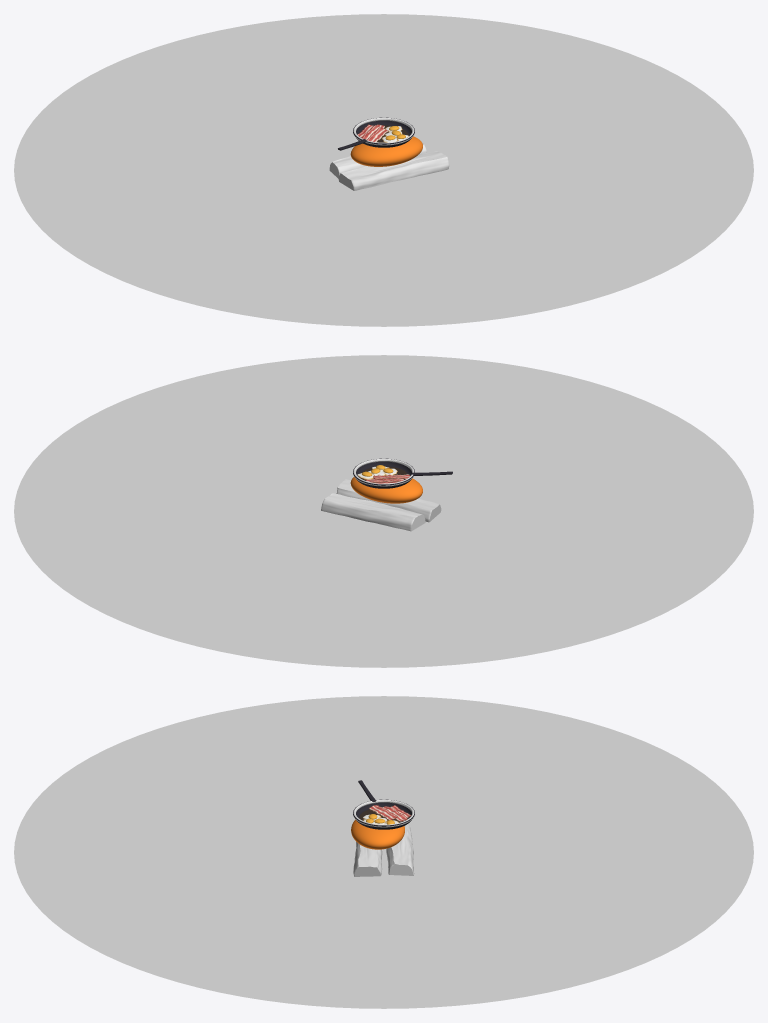
File: hearth.glb
3 views of the same model, one above another, from view 1: azimuth 30°, elevation 25°; view 2: azimuth 150°, elevation 25°; view 3: azimuth 270°, elevation 25° (orthographic).
Visible parts, largest first — view 1: HearthStone, HearthLogFront, SpiritBody, Pan; view 2: HearthStone, HearthLogBack, SpiritBody, HearthLogFront, Pan; view 3: HearthStone, SpiritBody, HearthLogBack, HearthLogFront, Pan.
Part boxes in pixels (box(x1,y1,x2,y2)): HearthStone: box(14, 14, 753, 326); HearthLogFront: box(338, 151, 449, 190); SpiritBody: box(350, 136, 422, 166); Pan: box(353, 117, 414, 147); HearthStone: box(14, 355, 753, 667); HearthLogBack: box(321, 493, 425, 531); SpiritBody: box(350, 477, 422, 503); HearthLogFront: box(336, 479, 441, 522); Pan: box(353, 458, 414, 488); HearthStone: box(14, 696, 753, 1008); SpiritBody: box(351, 819, 404, 849); HearthLogBack: box(386, 824, 414, 875); HearthLogFront: box(353, 842, 382, 876); Pan: box(353, 799, 414, 829).
Size of the model in its own units: 25.2 by 4.1 by 25.2.
Materials: 17 (7 with a texture image).
